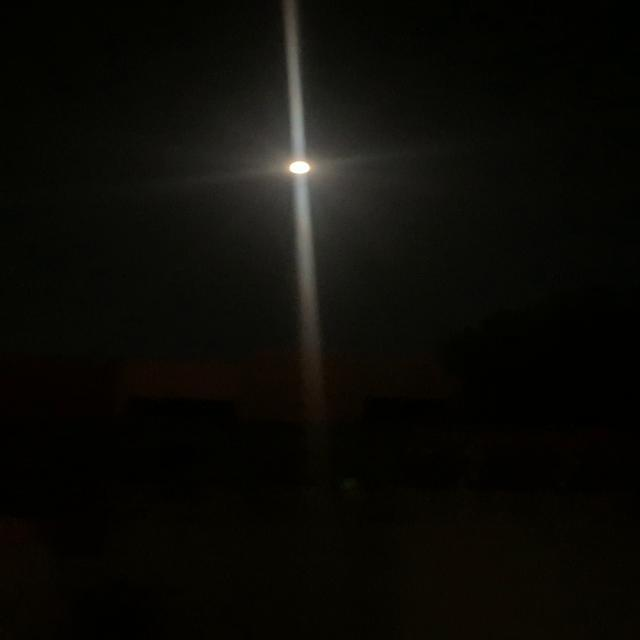moon: (270, 150, 334, 183)
